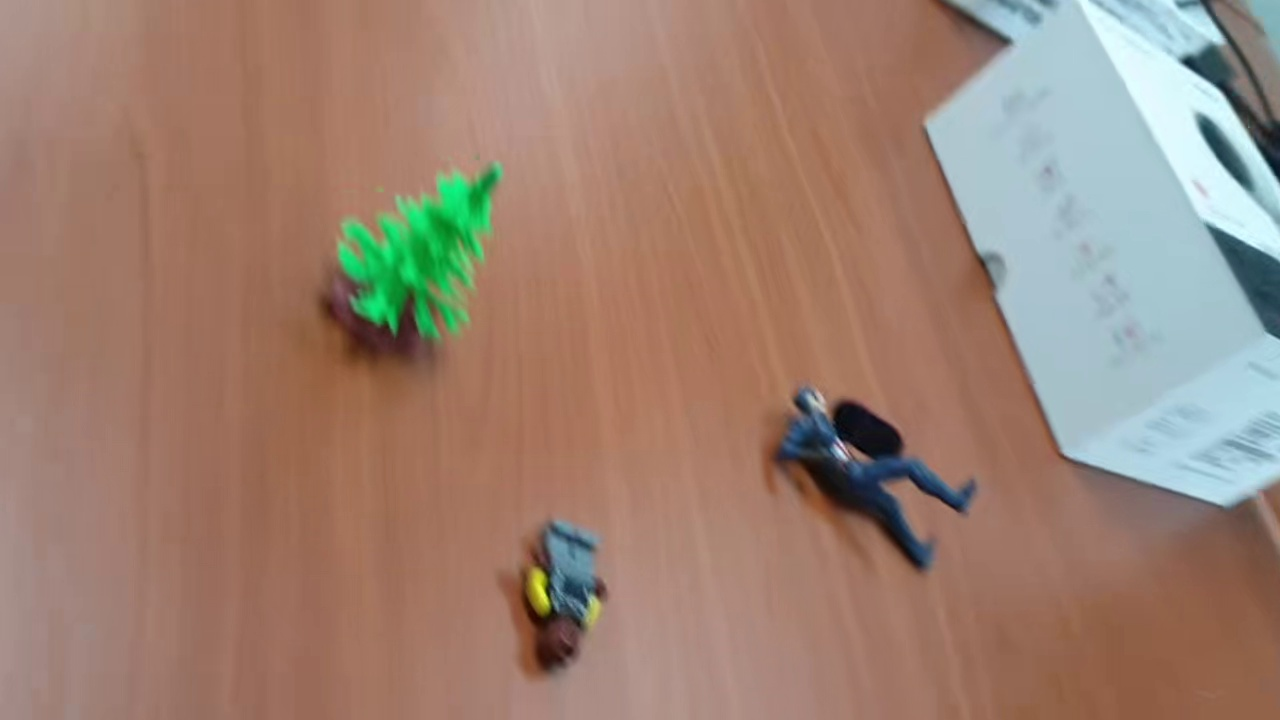people: (770, 381, 980, 573), (516, 519, 604, 668)
tree: (319, 160, 511, 347)
